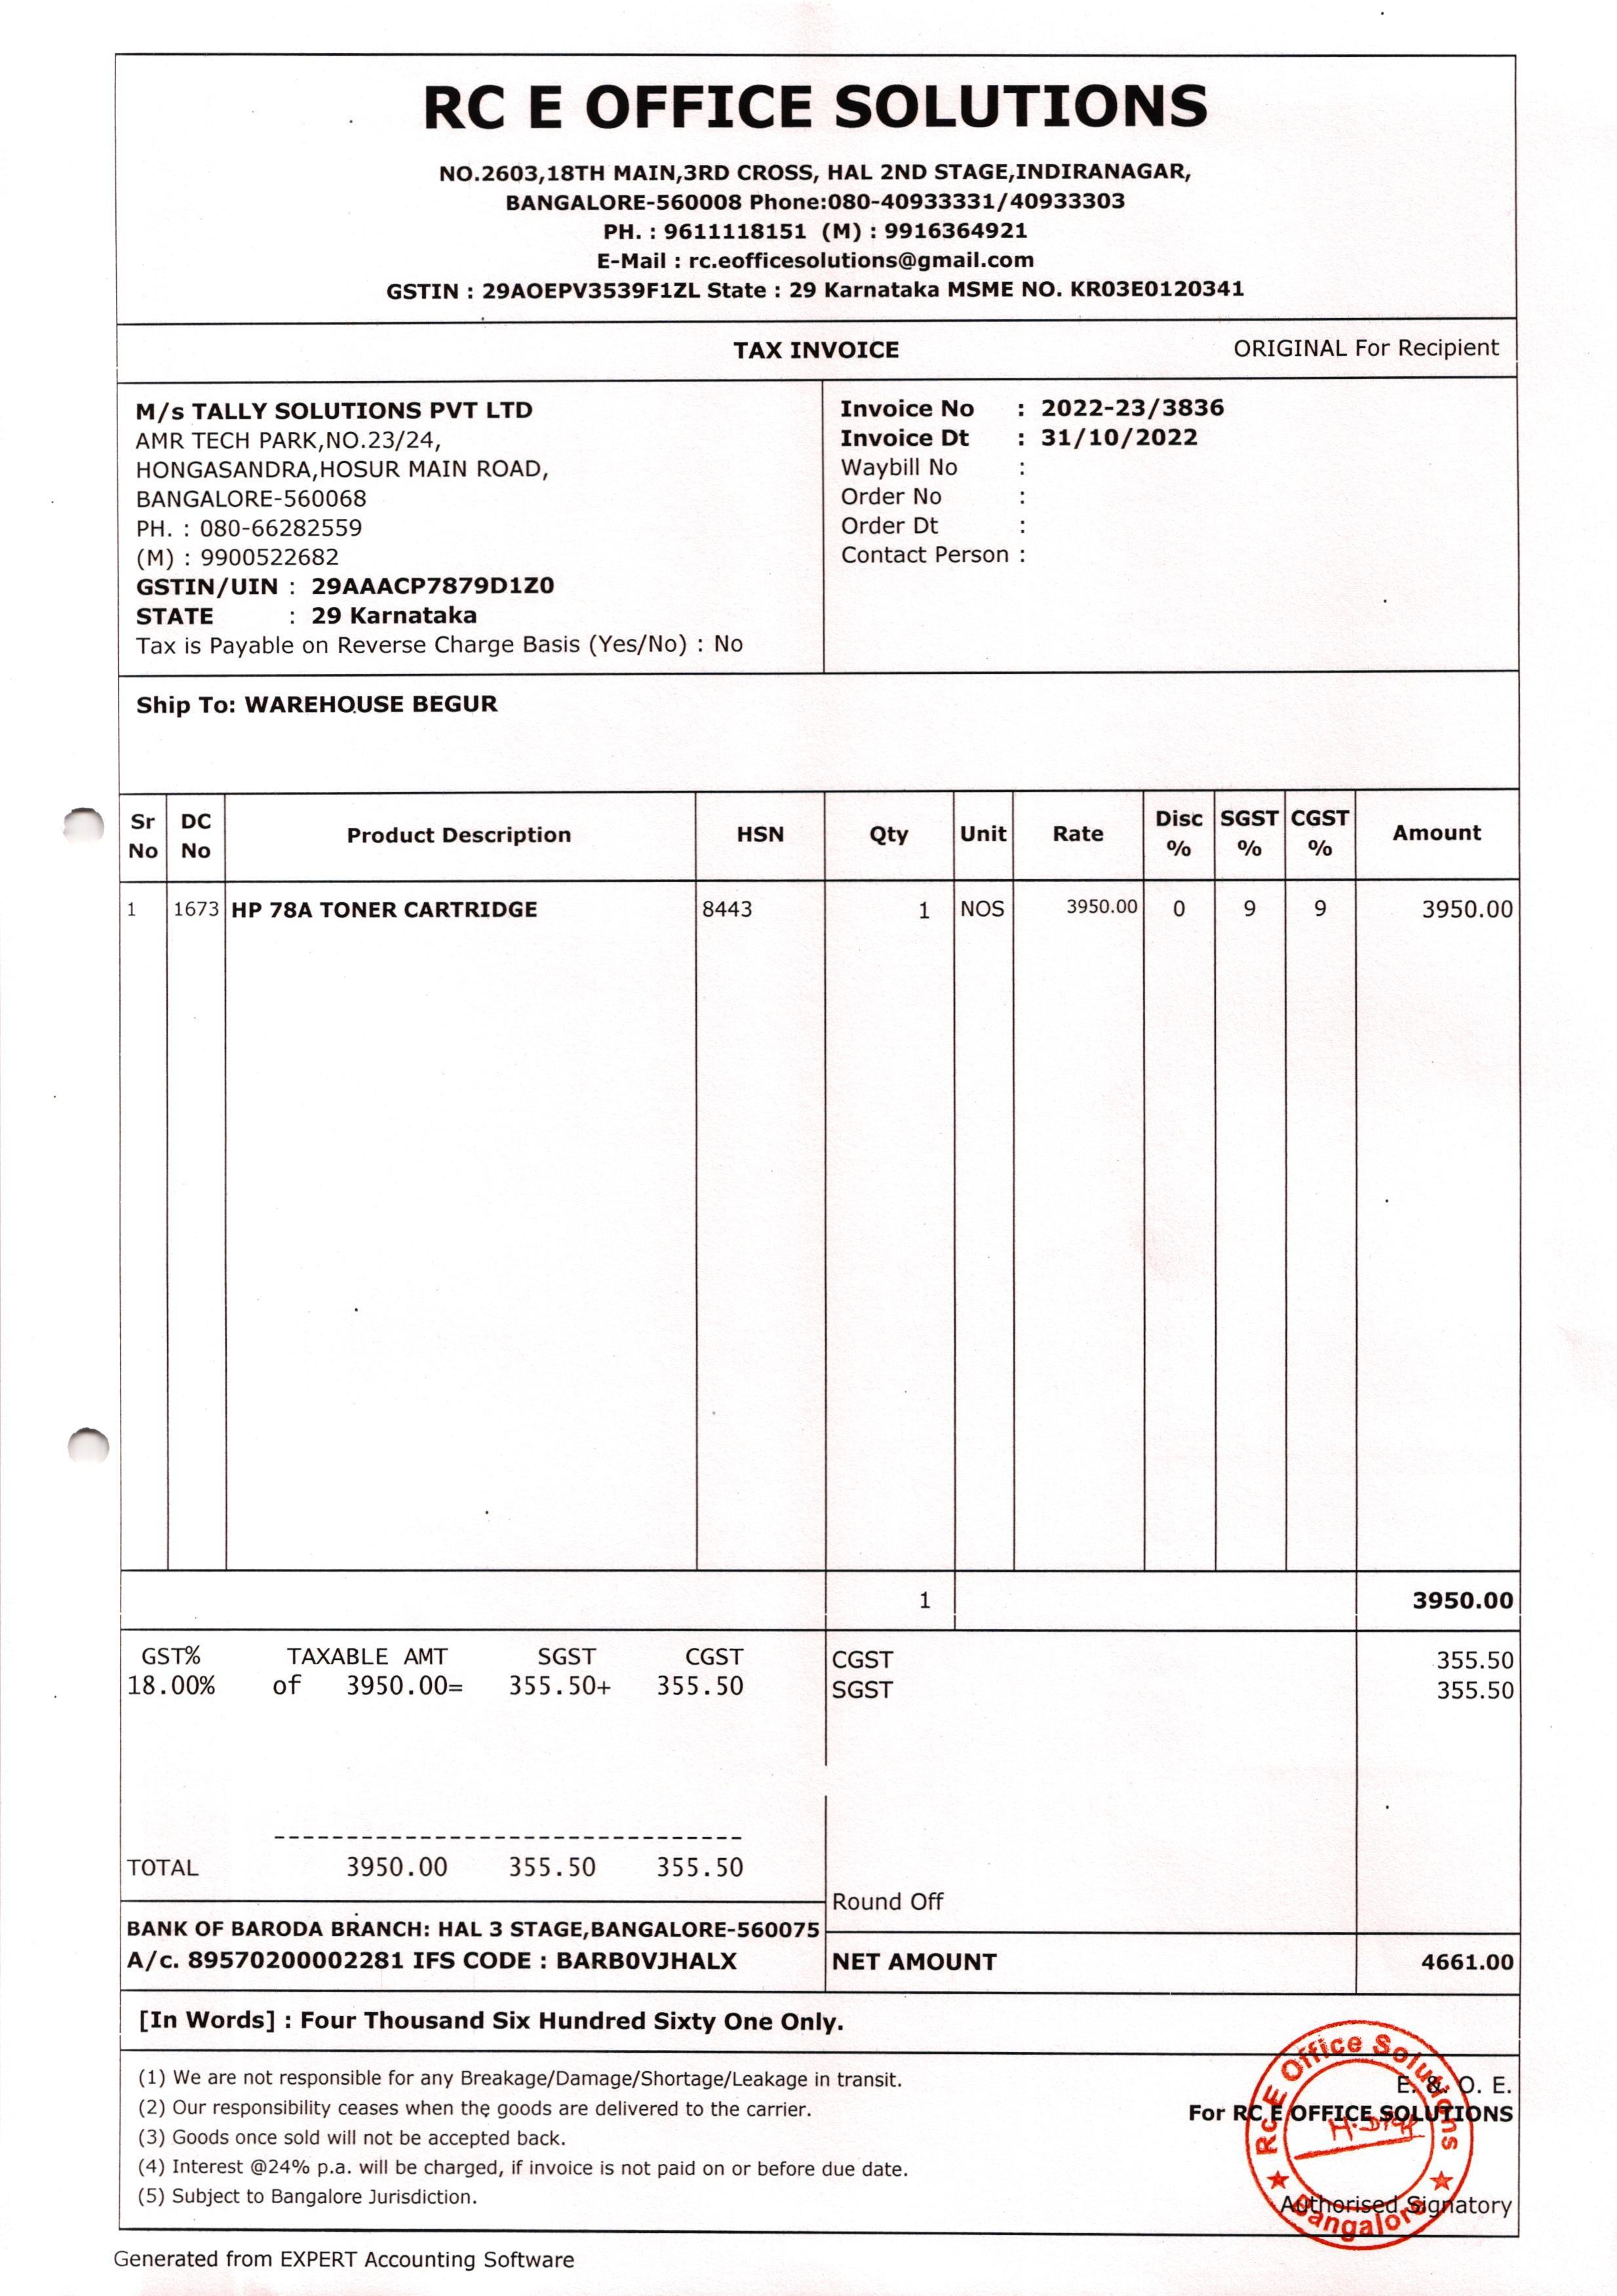InvoiceDate: (1416, 1941, 1521, 1981), (1027, 427, 1207, 450)
InvoiceNumber: (1034, 392, 1230, 427)
